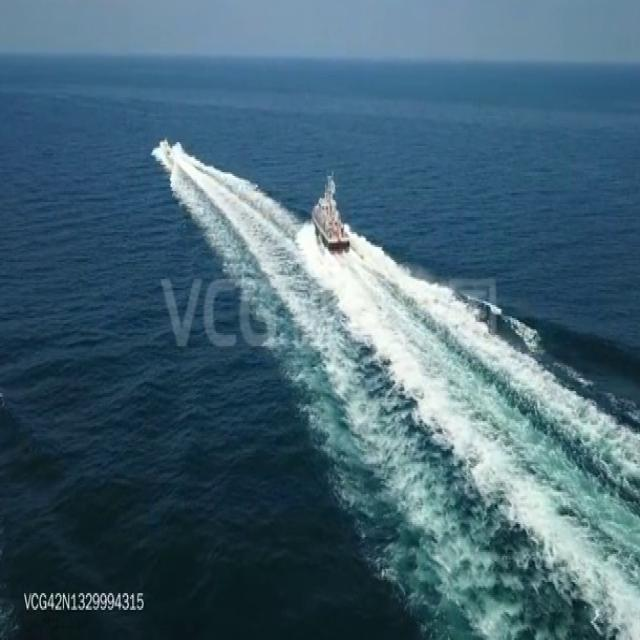houseboat: (158, 133, 172, 166)
navalvessels: (309, 169, 353, 250)
